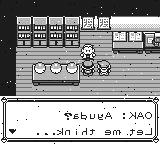leer: (113, 32, 143, 53), (81, 16, 111, 31), (144, 33, 160, 53)
main: (81, 60, 95, 76)
no-caminable: (1, 0, 160, 96), (17, 17, 79, 48), (32, 64, 79, 86), (112, 17, 160, 32)
npc: (80, 44, 96, 60), (97, 60, 112, 76)
poke-ball: (66, 62, 78, 74), (50, 62, 62, 74), (34, 62, 46, 74)
texto: (1, 97, 160, 144)
